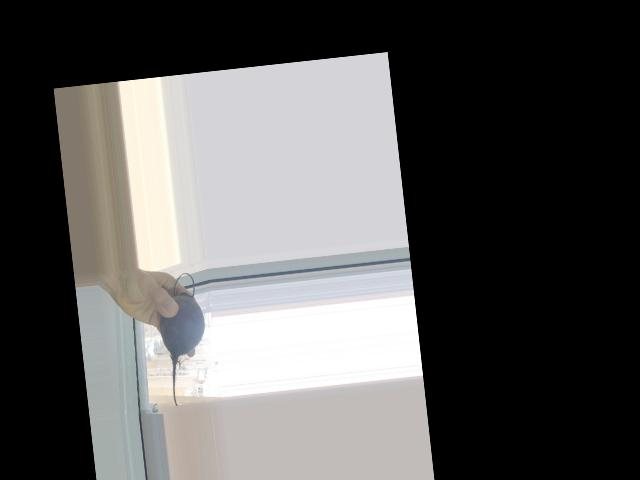beet: (154, 272, 213, 407)
